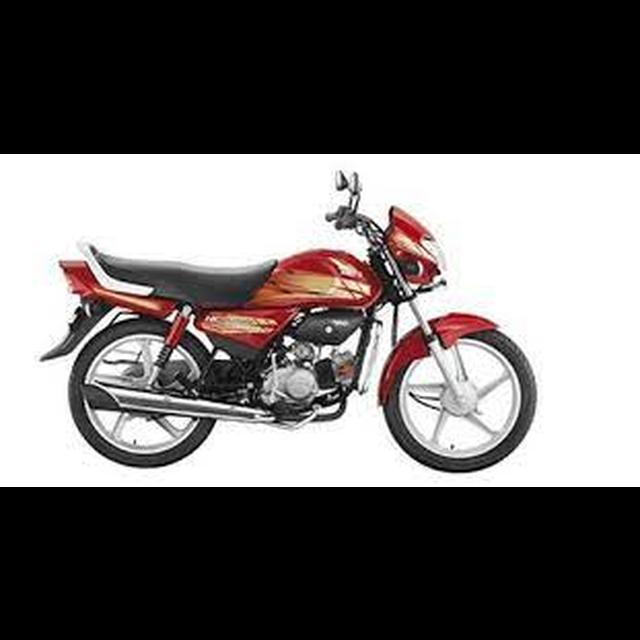motorcycle: (41, 163, 540, 475)
